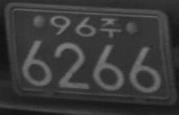2: (53, 41, 90, 90)
6: (129, 46, 162, 94), (92, 44, 124, 91), (21, 39, 52, 87), (75, 16, 96, 38)
9: (50, 14, 70, 35)
주: (100, 16, 123, 38)
